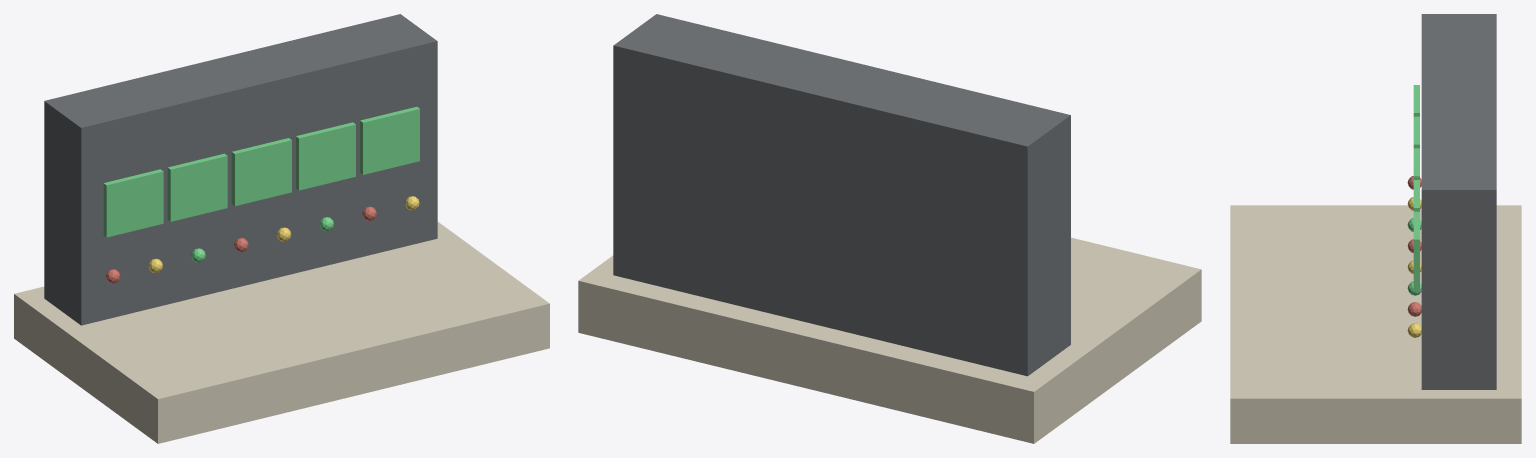
File: operator_console_02.glb
3 views of the same model, side by side, from view 1: azimuth 30°, elevation 25°; view 2: azimuth 150°, elevation 25°; view 3: azimuth 270°, elevation 25° (orthographic). The views are drawn at different scales.
Visible parts, largest first — view 1: panel, desk, screen0, screen2, screen1, screen4, screen3; view 2: panel, desk; view 3: desk, panel, screen4.
Part boxes in pixels (x1,y1,x2,y2): panel: (44,14,437,325); desk: (14,222,549,443); screen0: (103,169,163,237); screen2: (231,138,291,205); screen1: (167,153,227,221); screen4: (360,106,419,174); screen3: (296,122,355,190); panel: (613,14,1070,376); desk: (578,237,1201,443); desk: (1230,205,1521,443); panel: (1421,14,1496,389); screen4: (1413,211,1419,292).
Bounding box in the file's own units: 1.1 × 0.65 × 0.7.
